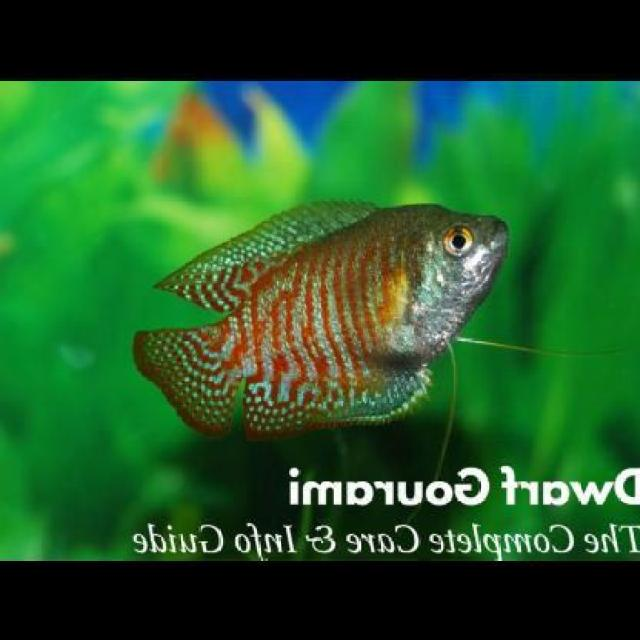Gourami: (132, 195, 508, 436)
